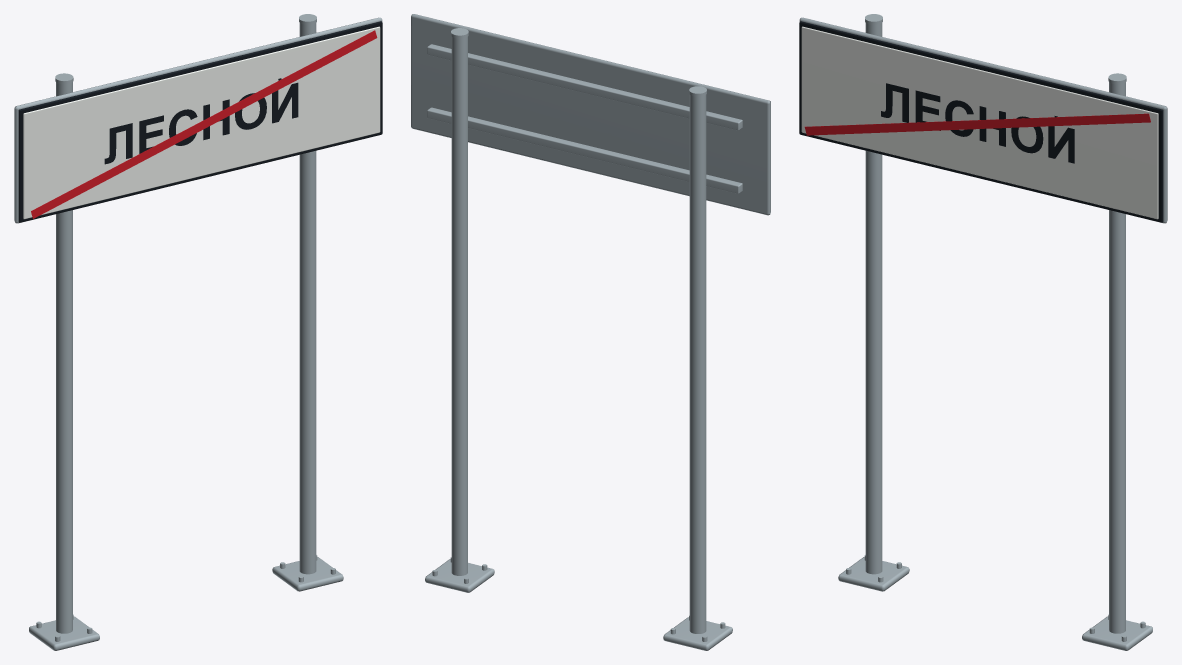
The model's file is DS_Sign_TownExit.glb.
The picture shows the model from 3 angles, left to right: view 1: azimuth 30°, elevation 25°; view 2: azimuth 150°, elevation 25°; view 3: azimuth 330°, elevation 25°; orthographic projection. The views are drawn at different scales.
Visible parts, largest first — view 1: TownFace.001, Post.020, Post.019, TownBorder.001, TownExitSlash0, Legend_ЛЕСНОЙ.001, Plate_Back.015, BasePlate.020, BasePlate.019; view 2: Plate_Back.015, Post.019, Post.020, RearRail.031, RearRail.030, BasePlate.019, BasePlate.020; view 3: TownFace.001, Post.019, Post.020, TownBorder.001, TownExitSlash0, Legend_ЛЕСНОЙ.001, Plate_Back.015, BasePlate.019, BasePlate.020.
Boxes of the visible parts, bbox=[...] form: TownFace.001: bbox=[23, 26, 380, 219]; Post.020: bbox=[299, 23, 316, 574]; Post.019: bbox=[56, 82, 72, 633]; TownBorder.001: bbox=[18, 21, 382, 222]; TownExitSlash0: bbox=[31, 30, 377, 218]; Legend_ЛЕСНОЙ.001: bbox=[104, 78, 298, 164]; Plate_Back.015: bbox=[14, 17, 382, 223]; BasePlate.020: bbox=[272, 557, 343, 591]; BasePlate.019: bbox=[29, 616, 99, 650]; Plate_Back.015: bbox=[411, 14, 770, 215]; Post.019: bbox=[689, 95, 706, 633]; Post.020: bbox=[451, 37, 467, 575]; RearRail.031: bbox=[427, 44, 742, 130]; RearRail.030: bbox=[427, 107, 742, 193]; BasePlate.019: bbox=[663, 617, 732, 650]; BasePlate.020: bbox=[425, 559, 494, 592]; TownFace.001: bbox=[801, 26, 1158, 219]; Post.019: bbox=[865, 23, 882, 574]; Post.020: bbox=[1109, 82, 1125, 633]; TownBorder.001: bbox=[799, 21, 1163, 222]; TownExitSlash0: bbox=[804, 113, 1150, 135]; Legend_ЛЕСНОЙ.001: bbox=[881, 83, 1074, 163]; Plate_Back.015: bbox=[799, 17, 1167, 223]; BasePlate.019: bbox=[838, 557, 909, 591]; BasePlate.020: bbox=[1082, 616, 1152, 650].
Bounding box in the file's own units: 1.9 × 2.77 × 0.281.
